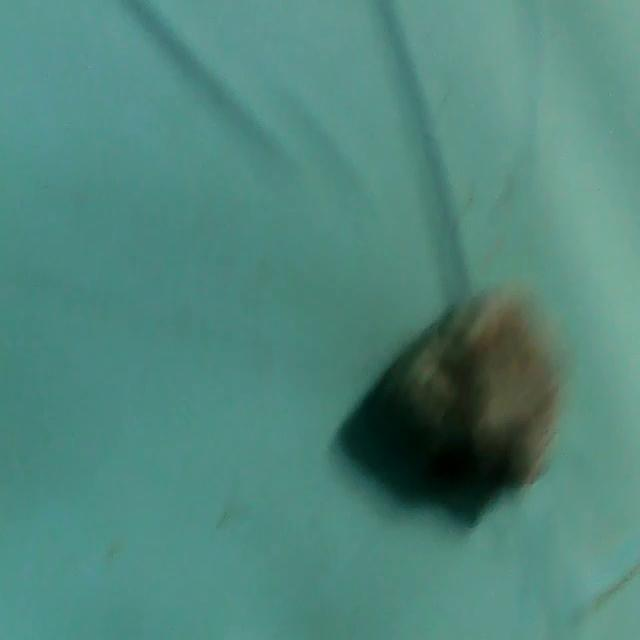rock: (344, 282, 571, 509)
